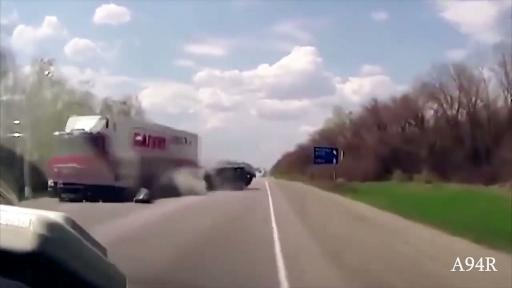Accident-fire-smoke: (14, 65, 264, 221)
